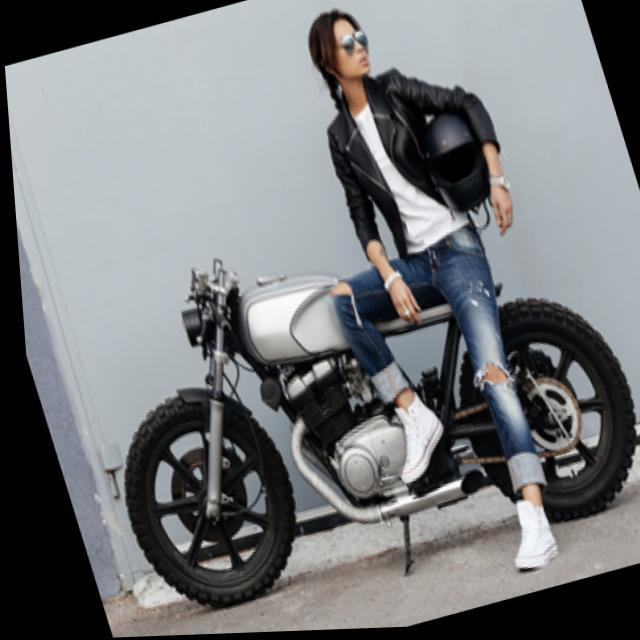Nonhelmet: (302, 5, 381, 97)
